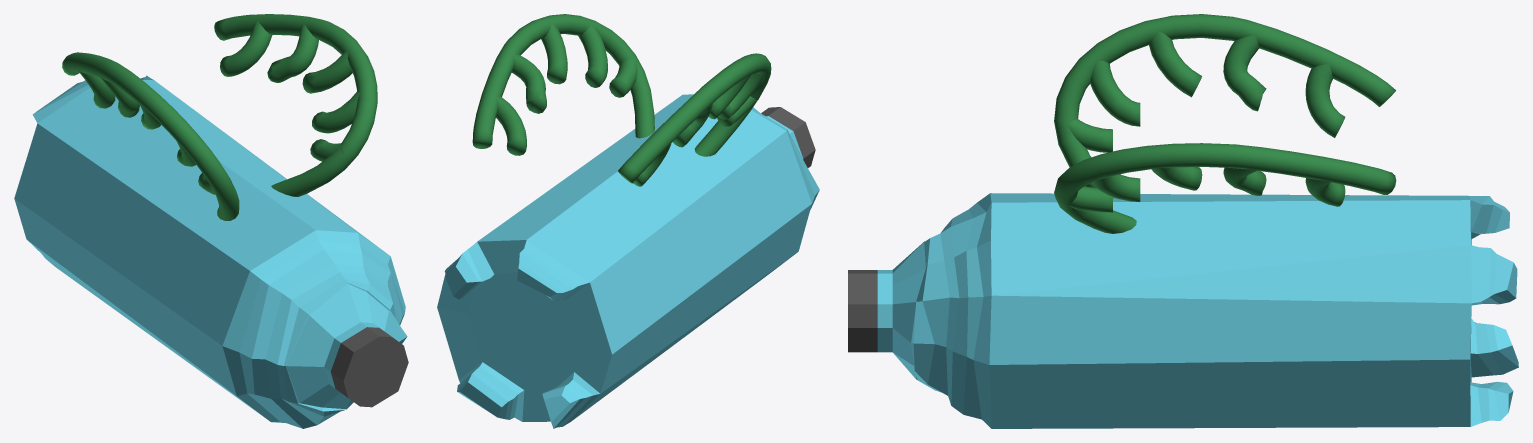
The model's file is HoverEnemyModel.fbx.
3 renders of one model, left to right at view 1: azimuth 30°, elevation 25°; view 2: azimuth 150°, elevation 25°; view 3: azimuth 270°, elevation 25°, orthographic. The views are drawn at different scales.
Visible parts, largest first — view 1: Bottle, Winds, Cap; view 2: Bottle, Winds, Cap; view 3: Bottle, Winds, Cap.
Boxes of the visible parts, x1,y1,x2,y2 form: Bottle: (14, 75, 407, 428); Winds: (62, 14, 377, 220); Cap: (330, 327, 408, 407); Bottle: (437, 94, 819, 428); Winds: (472, 14, 771, 186); Cap: (761, 107, 815, 167); Bottle: (877, 193, 1518, 428); Winds: (1054, 14, 1396, 233); Cap: (848, 270, 877, 352).
Size of the model in its own units: 127 by 163 by 280.
